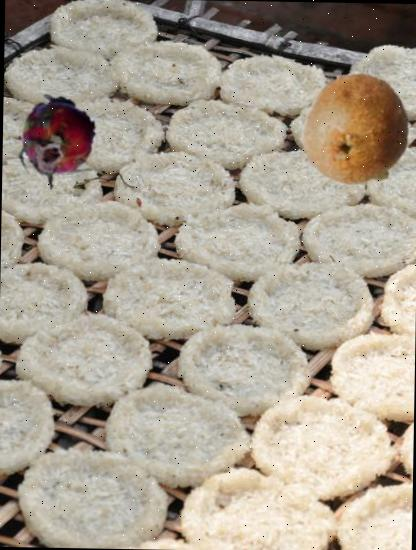Kiwi: (296, 72, 413, 188)
Pitahaya: (6, 90, 106, 190)
